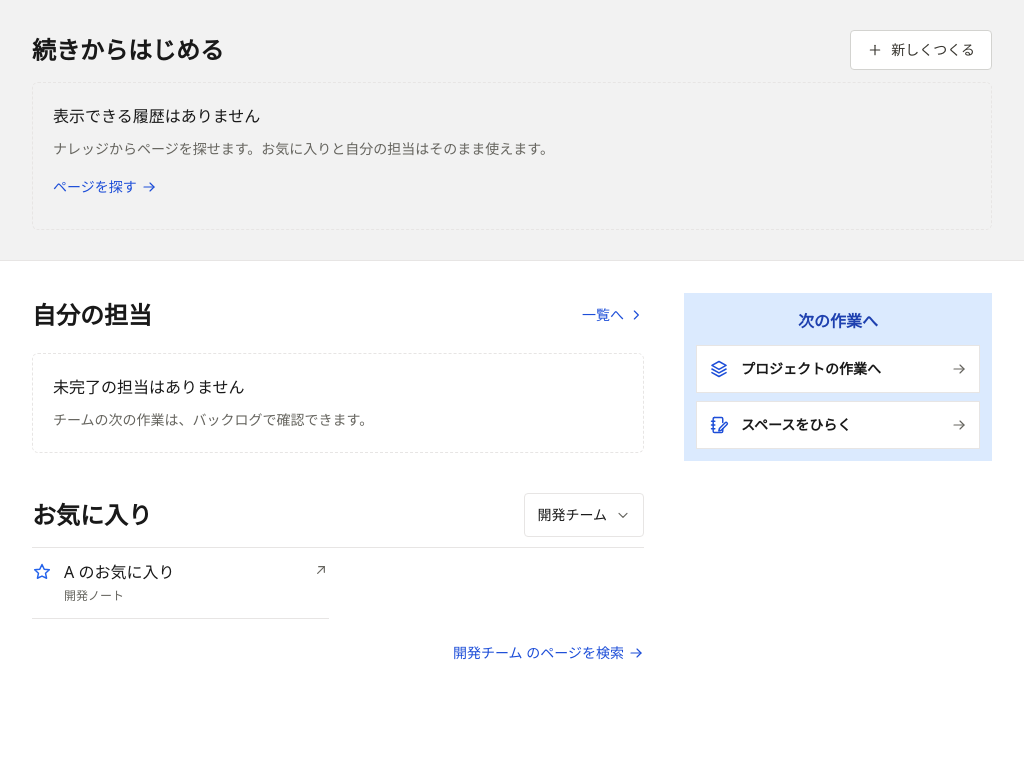
Test case: HomePage › お気に入りのワークスペースを切り替えた直後に、前のワークスペースのお気に入りを出さない
The width and height of the screenshot is (1024, 768).
Check: the text "A のお気に入り" is shown, box 64,561 -> 174,583
Note: 読み込みが終わらない間も、前のワークスペースの行は 1 度も出さない。
What coordinates should you click on to do the following:
click the dropdown named "お気に入りを出すワークスペース"
I would click on:
 (584, 515)
Its box is 524,493 -> 644,537.
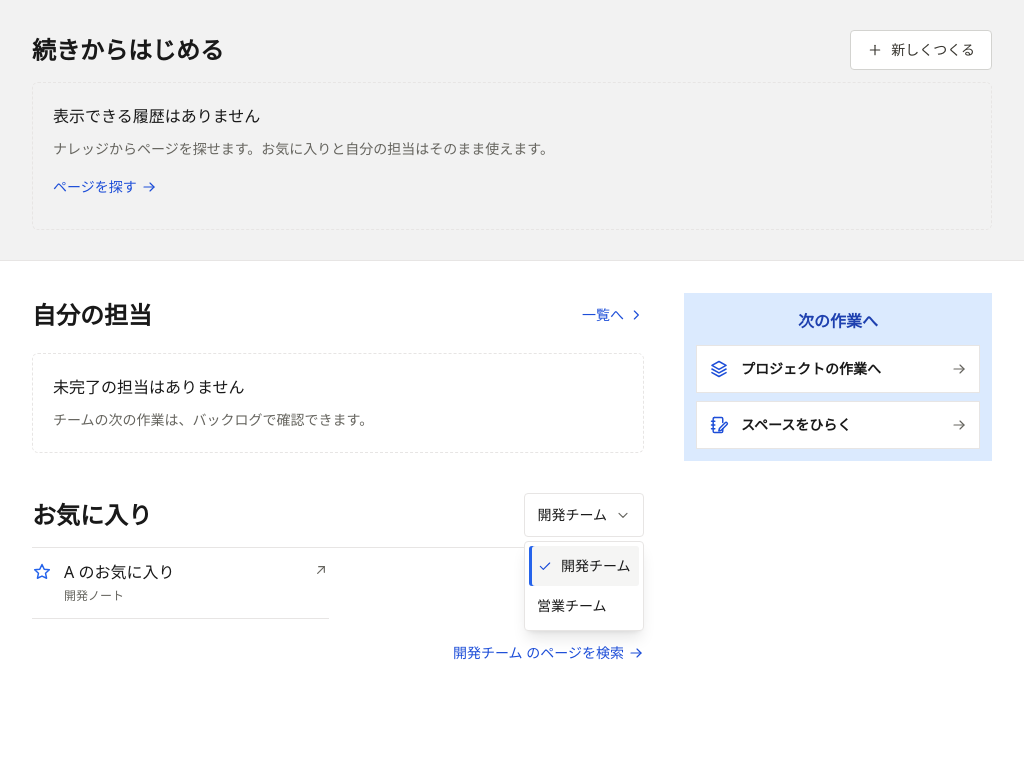
Note: 候補は別の器（ポータル）へ後から描かれるので、出てくるまで待つ。
What coordinates should you click on to do the following:
click the option "営業チーム"
I would click on:
 (572, 606)
Its box is 537,596 -> 607,615.
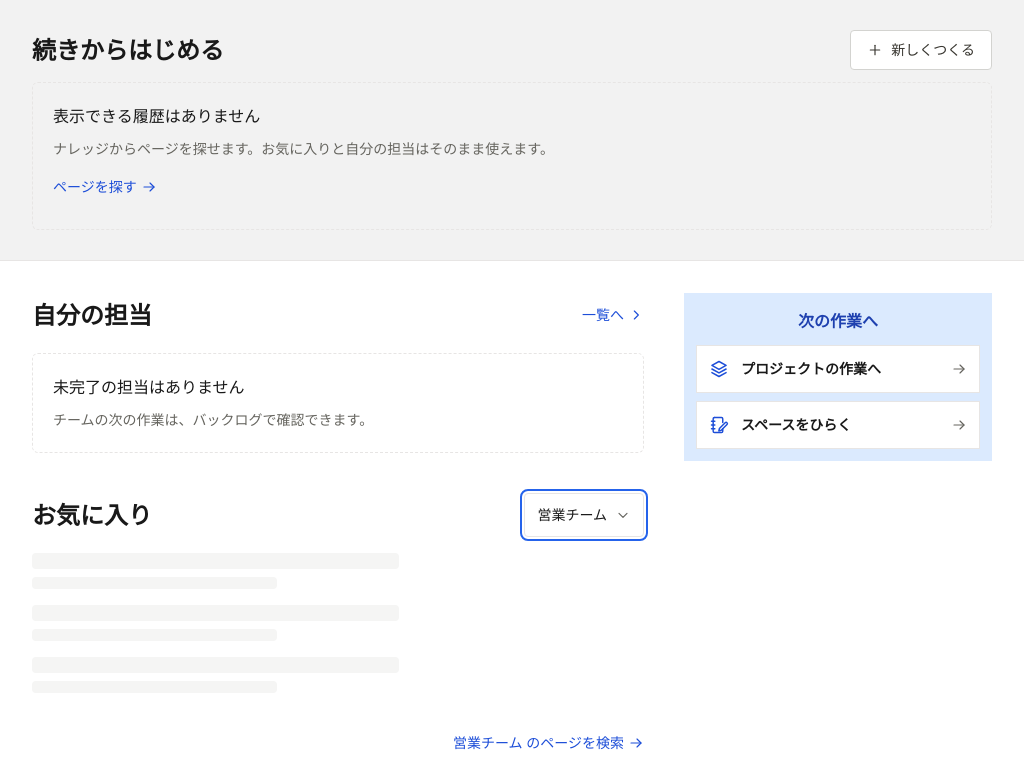
Check: the link "A のお気に入り" is gone
